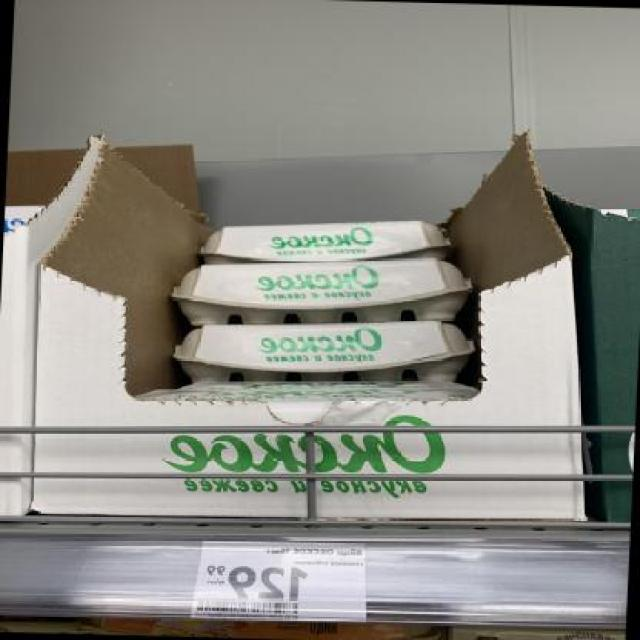Egg: (170, 253, 476, 324), (172, 316, 473, 386), (188, 213, 464, 269), (3, 195, 48, 256)
